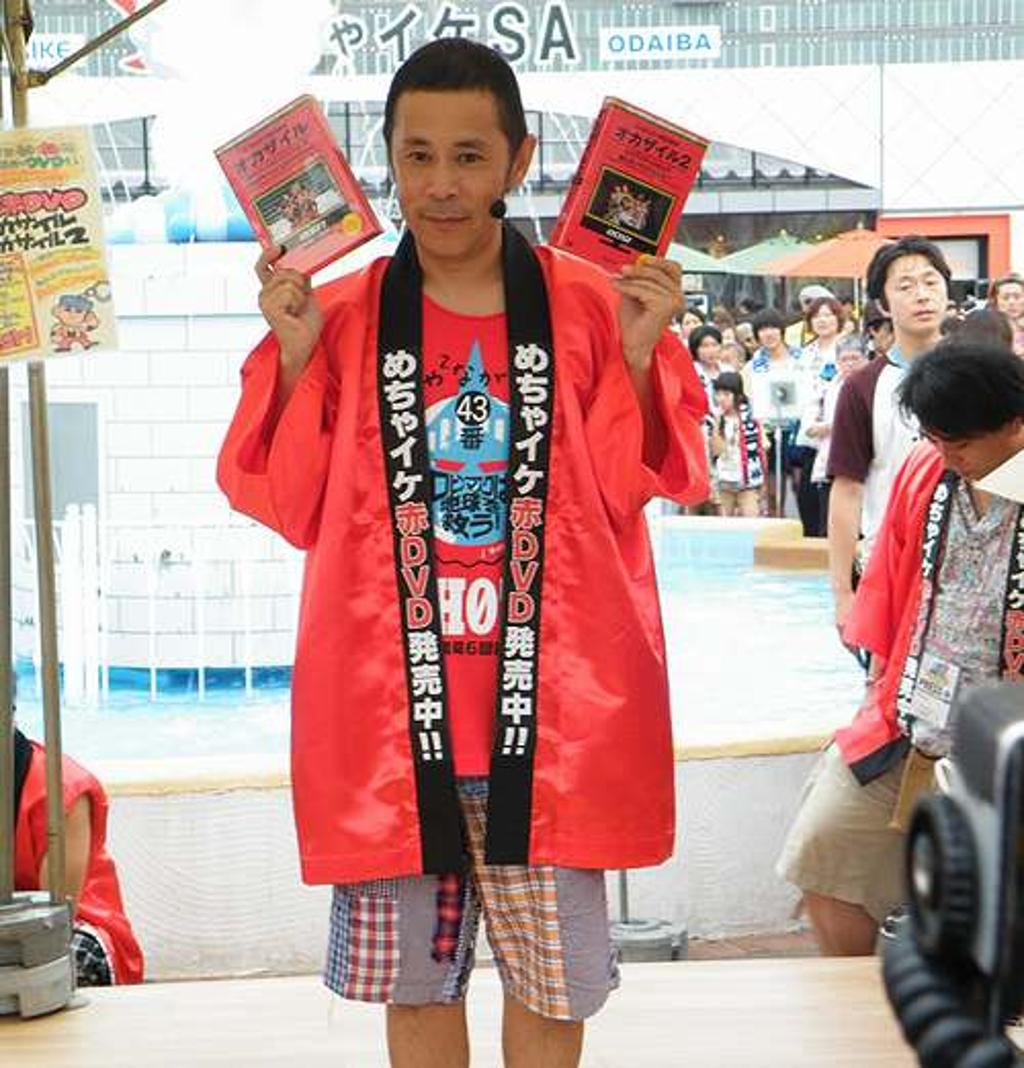face: (391, 93, 507, 255), (916, 407, 1008, 479), (884, 259, 946, 329), (997, 284, 1024, 318), (877, 314, 901, 352), (810, 304, 837, 335), (758, 321, 781, 349), (698, 333, 720, 362), (681, 312, 703, 337), (841, 351, 861, 376), (715, 387, 734, 411), (716, 327, 734, 351), (834, 301, 852, 325), (737, 330, 754, 352)
